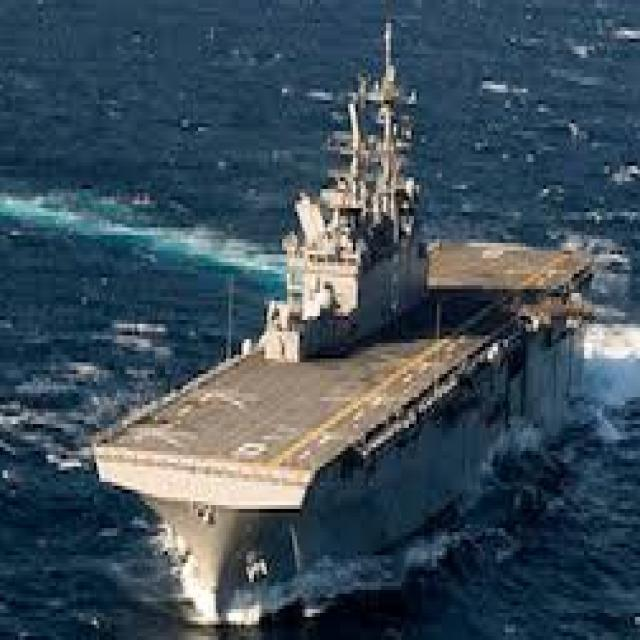navalvessels: (86, 81, 599, 622)
